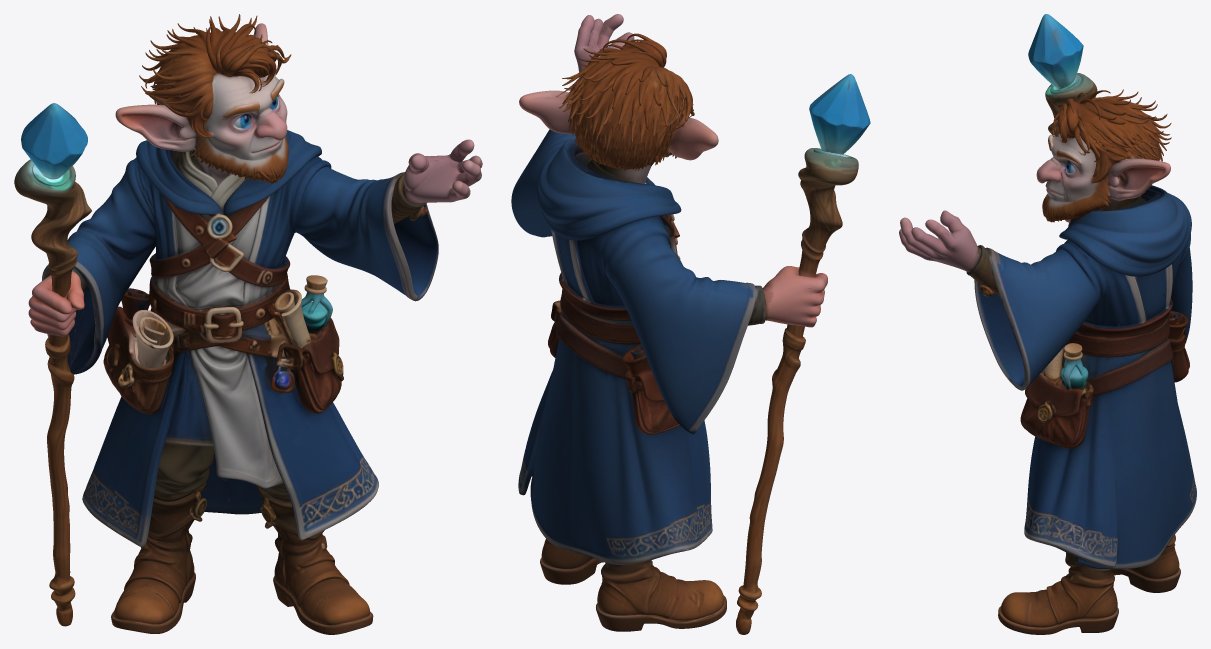
The model's file is halfling_mage_full_male_01.glb.
3 renders of one model, left to right at view 1: azimuth 30°, elevation 25°; view 2: azimuth 150°, elevation 25°; view 3: azimuth 270°, elevation 25°, orthographic. The views are drawn at different scales.
Parts seen in each view (by area): view 1: material; view 2: material; view 3: material.
Part boxes in pixels (box(x1,y1,x2,y2)): material: box(14, 14, 482, 634); material: box(511, 14, 870, 634); material: box(899, 14, 1196, 634).
Bounding box in the file's own units: 0.725 × 1.03 × 0.5541.
Materials: 1 (1 with a texture image).
